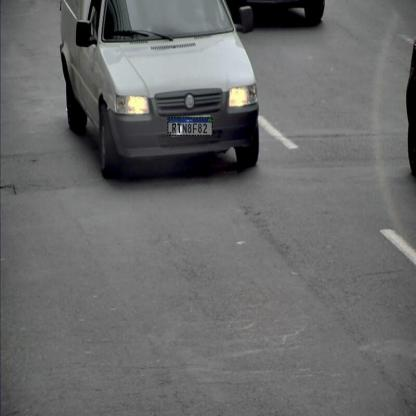PlacaM: (167, 117, 212, 136)
